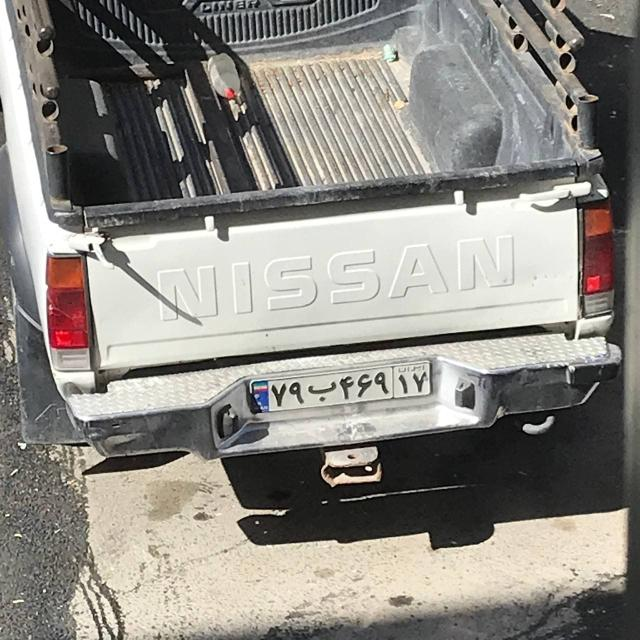Plates: (250, 363, 433, 414)
